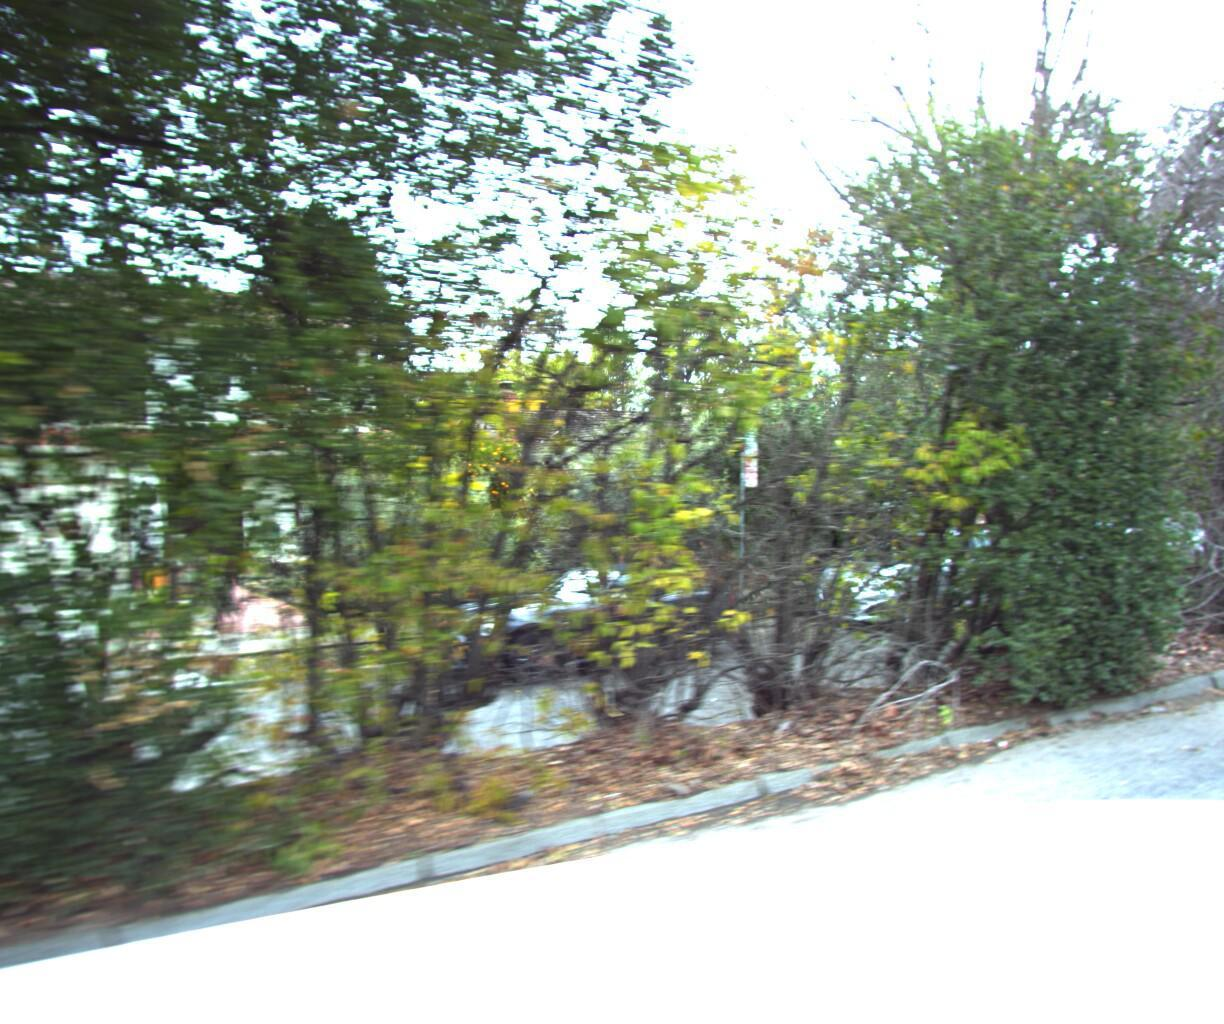car: (425, 551, 775, 706)
